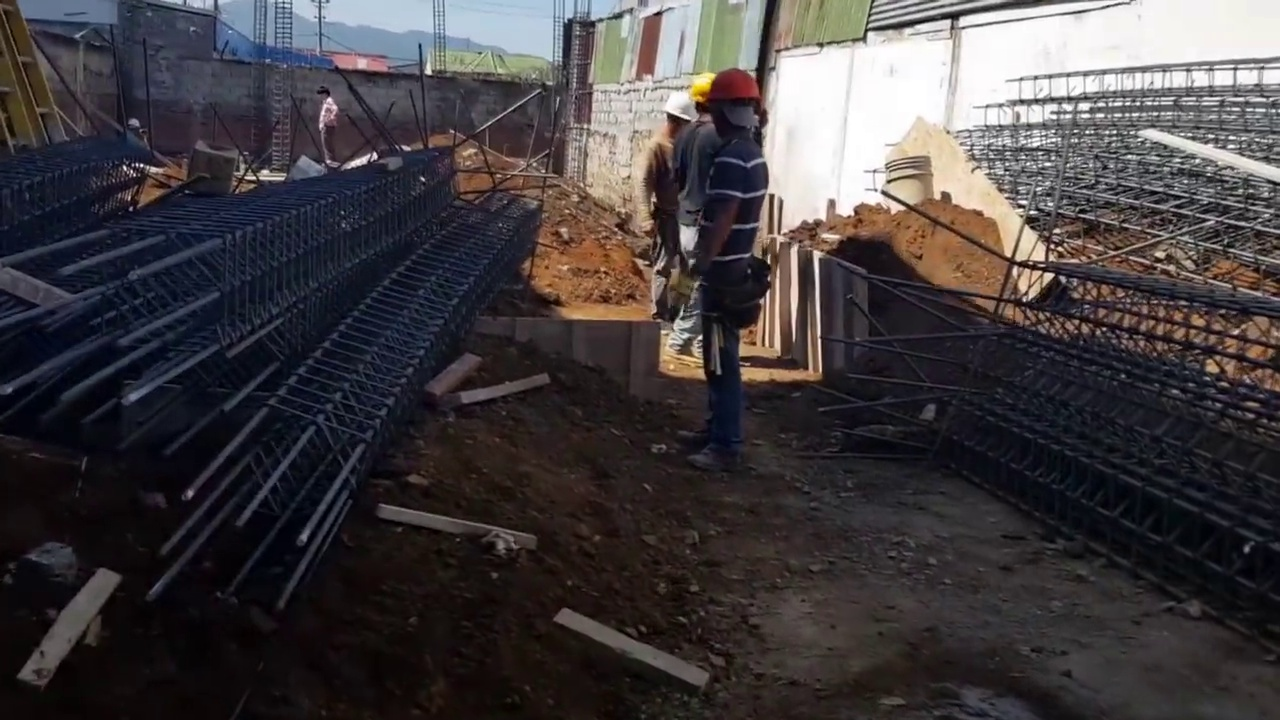helmet: (705, 67, 763, 110), (661, 93, 692, 123), (688, 70, 714, 105), (127, 118, 142, 127)
helmet-off: (315, 86, 332, 103)
helmet-on: (705, 64, 766, 145), (660, 93, 698, 141), (688, 69, 713, 125)
person: (683, 63, 770, 478), (633, 89, 698, 335), (671, 70, 713, 364), (315, 86, 338, 169)
